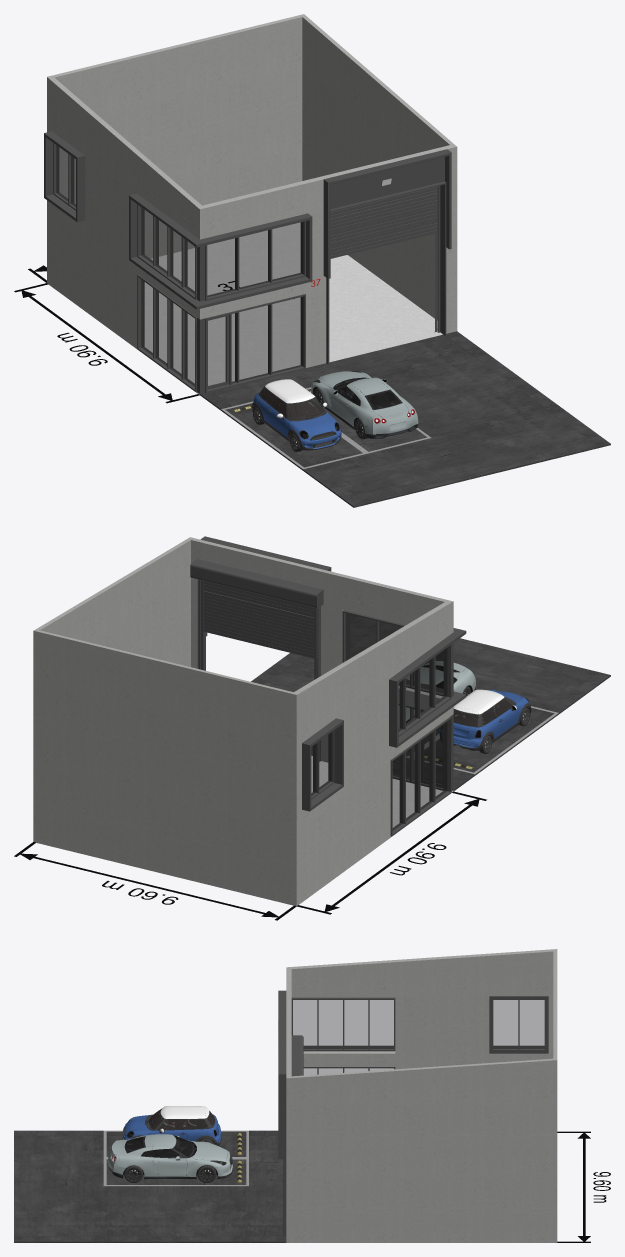
File: Without_Mezzanine.glb
The picture shows the model from 3 angles, top to bottom: view 1: azimuth 30°, elevation 25°; view 2: azimuth 150°, elevation 25°; view 3: azimuth 270°, elevation 25°; orthographic projection. The views are drawn at different scales.
Parts seen in each view (by area): view 1: Object1746170056, Box2131647111, Box2131647102, Shape382, Shape383, Object1746170057, Segment 006, AM132_033_39.002, AM132_041_25.002, Rectangle2133403701, Component#120 [25525]106, Component#121 [25528]106 (+4 smaller); view 2: Object1746170056, Shape382, Box2131647102, Box2131647111, Object1746170057, Segment 006, AM132_041_25.002, Rectangle2133403701, Object1746170048, Rectangle2133403704, Shape383, AM132_033_39.002 (+4 smaller); view 3: Object1746170057, Box2131647111, Shape382, Box2131647102, AM132_033_39.002, Rectangle2133403701, AM132_041_25.002, Rectangle2133403705, Object1746170056, Component#121 [25528]106, Rectangle2133403704, Object1746170048 (+2 smaller).
Part boxes in pixels (x1,y1,x2,y2): Object1746170056: (52, 14, 305, 258); Box2131647111: (200, 331, 610, 507); Box2131647102: (129, 193, 312, 393); Shape382: (47, 75, 457, 367); Shape383: (140, 222, 442, 394); Object1746170057: (302, 16, 453, 320); Segment 006: (330, 186, 437, 258); AM132_033_39.002: (311, 371, 418, 439); AM132_041_25.002: (252, 379, 341, 452); Rectangle2133403701: (44, 131, 85, 222); Component#120 [25525]106: (330, 157, 444, 208); Component#121 [25528]106: (323, 149, 451, 278); Object1746170056: (33, 629, 293, 904); Shape382: (187, 537, 453, 905); Box2131647102: (342, 610, 466, 836); Box2131647111: (251, 615, 610, 790); Object1746170057: (36, 539, 190, 666); Segment 006: (203, 581, 317, 658); AM132_041_25.002: (440, 689, 531, 753); Rectangle2133403701: (302, 718, 343, 811); Object1746170048: (190, 559, 323, 608); Rectangle2133403704: (342, 598, 453, 677); Shape383: (311, 756, 453, 837); AM132_033_39.002: (399, 661, 475, 728); Object1746170057: (291, 1058, 553, 1242); Box2131647111: (14, 1130, 286, 1242); Shape382: (286, 949, 557, 1242); Box2131647102: (278, 990, 395, 1075); AM132_033_39.002: (108, 1134, 232, 1182); Rectangle2133403701: (489, 996, 548, 1053); AM132_041_25.002: (122, 1106, 221, 1144); Rectangle2133403705: (303, 1051, 395, 1066); Object1746170056: (553, 951, 557, 1242); Component#121 [25528]106: (278, 1020, 286, 1159); Rectangle2133403704: (291, 988, 395, 997); Object1746170048: (291, 1035, 303, 1076).
Size of the model in its own units: 11.73 by 7.5 by 22.19.
57 materials, 7 textured.
